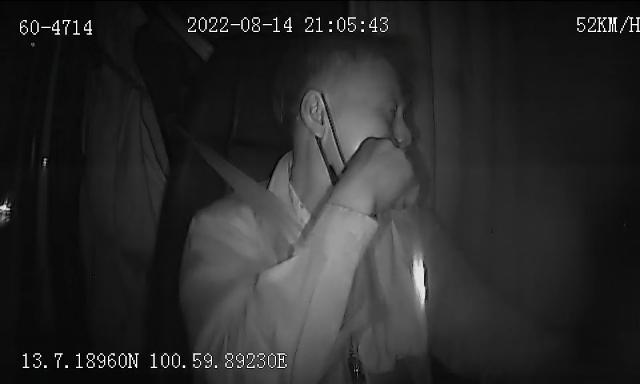Seatbelt: (183, 132, 305, 242)
